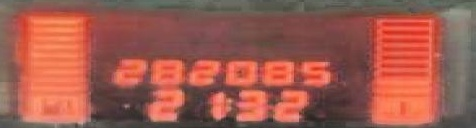0: (223, 59, 254, 82)
1: (202, 89, 223, 120)
2: (142, 87, 184, 121), (270, 89, 306, 120), (187, 58, 218, 82), (112, 58, 143, 82)
3: (231, 89, 265, 119)
5: (296, 59, 330, 83)
8: (257, 59, 291, 83), (151, 58, 182, 82)
X: (223, 95, 231, 113)
